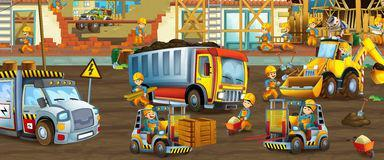car: (124, 41, 250, 111), (1, 69, 103, 145), (273, 37, 383, 98), (74, 6, 114, 32)
person: (129, 71, 149, 105), (237, 93, 254, 131), (256, 21, 276, 50), (142, 105, 161, 135), (262, 65, 278, 100), (278, 21, 296, 52), (298, 99, 316, 129), (17, 26, 34, 53), (305, 17, 320, 45), (133, 16, 146, 45)
